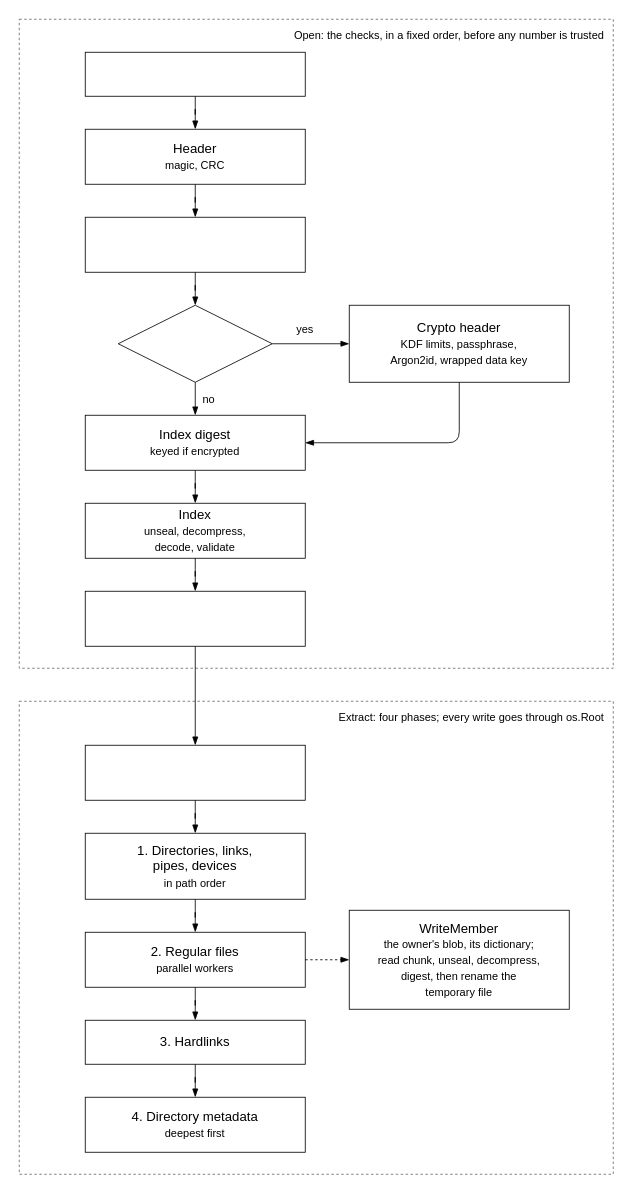
Some shapes in this 633 by 1194 pixel diagram are drawn without their labels. The shapes that lost their labels are listed below. From the top down, each one's centre as x and y in pixels, then its label:
At pixel 194 73: "OpenWith".
At pixel 194 244: "Trailer magic, CRC, bounds".
At pixel 194 343: "Encrypted?".
At pixel 194 618: "Member and dictionary ranges inside the body".
At pixel 194 772: "Select members patterns, -R, exclude".
